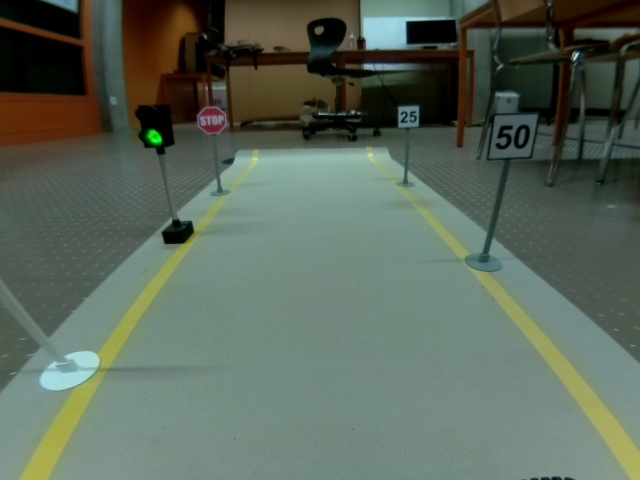speed25: (395, 103, 421, 129)
speed50: (486, 112, 541, 161)
stop: (196, 106, 226, 135)
trafficLightGreen: (133, 103, 173, 149)
